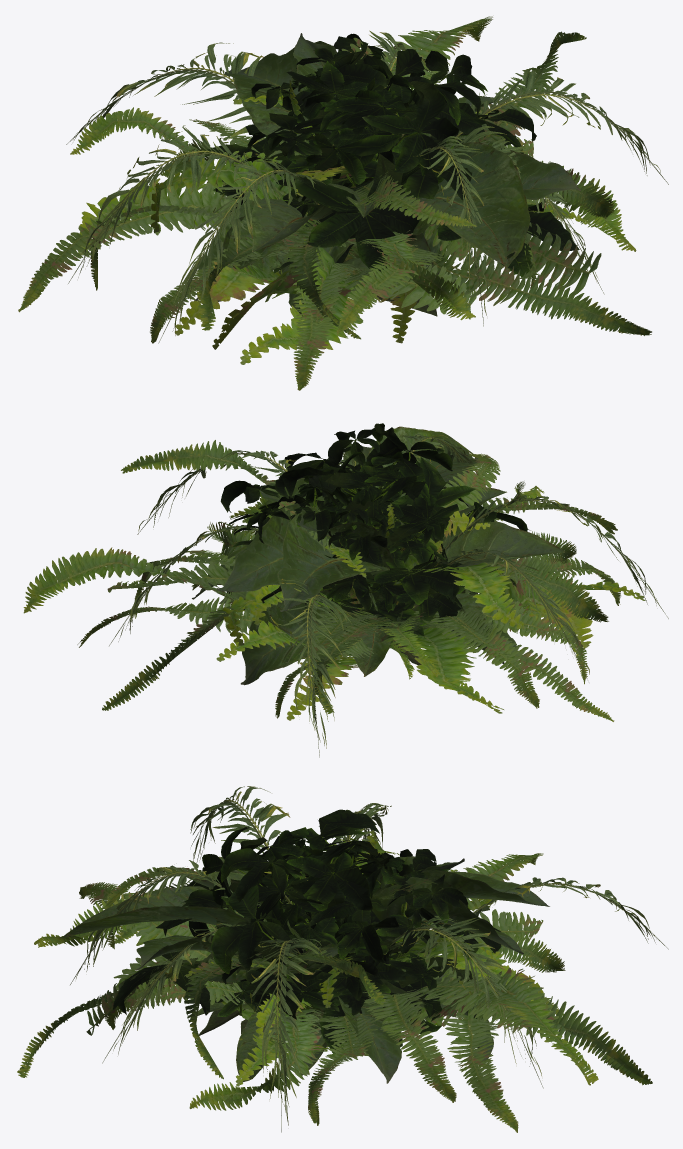
Rendered from foliage.glb.
3 views of the same model, one above another, from view 1: azimuth 30°, elevation 25°; view 2: azimuth 150°, elevation 25°; view 3: azimuth 270°, elevation 25° (orthographic). The views are drawn at different scales.
Visible parts, largest first — view 1: PalmA_professional_fronds, PalmALow_professional_fronds, LongPalmALow_folded_fronds, PalmB_professional_fronds, PalmBLow_professional_fronds, ShrubCLow_professional_leaves, LongPalmA_folded_fronds, CanopySpray_professional_leaf_spray, ShrubBLow_professional_leaves, BroadleafC_professional_leaves, PalmCLow_professional_fronds, PalmC_professional_fronds (+12 smaller); view 2: PalmBLow_professional_fronds, PalmB_professional_fronds, PalmALow_professional_fronds, PalmA_professional_fronds, ShrubCLow_professional_leaves, ShrubC_professional_leaves, LongPalmA_folded_fronds, LongPalmALow_folded_fronds, PalmCLow_professional_fronds, PalmC_professional_fronds, BroadleafC_professional_leaves, ShrubALow_professional_leaves (+11 smaller); view 3: PalmA_professional_fronds, ShrubCLow_professional_leaves, PalmALow_professional_fronds, PalmB_professional_fronds, LongPalmALow_folded_fronds, PalmBLow_professional_fronds, LongPalmA_folded_fronds, PalmCLow_professional_fronds, ShrubC_professional_leaves, ShrubALow_professional_leaves, BroadleafA_professional_leaves, ShrubB_professional_leaves (+11 smaller).
Boxes of the visible parts, bbox=[...] form: PalmA_professional_fronds: bbox=[18, 19, 651, 390]; PalmALow_professional_fronds: bbox=[18, 16, 651, 389]; LongPalmALow_folded_fronds: bbox=[74, 30, 650, 331]; PalmB_professional_fronds: bbox=[70, 82, 636, 361]; PalmBLow_professional_fronds: bbox=[70, 80, 628, 364]; ShrubCLow_professional_leaves: bbox=[202, 51, 515, 273]; LongPalmA_folded_fronds: bbox=[73, 31, 660, 335]; CanopySpray_professional_leaf_spray: bbox=[274, 153, 571, 277]; ShrubBLow_professional_leaves: bbox=[279, 65, 536, 189]; BroadleafC_professional_leaves: bbox=[224, 41, 580, 315]; PalmCLow_professional_fronds: bbox=[78, 31, 601, 332]; PalmC_professional_fronds: bbox=[78, 32, 601, 334]; PalmBLow_professional_fronds: bbox=[102, 453, 645, 717]; PalmB_professional_fronds: bbox=[102, 453, 643, 718]; PalmALow_professional_fronds: bbox=[24, 489, 620, 721]; PalmA_professional_fronds: bbox=[23, 481, 620, 720]; ShrubCLow_professional_leaves: bbox=[230, 454, 475, 624]; ShrubC_professional_leaves: bbox=[226, 456, 470, 643]; LongPalmA_folded_fronds: bbox=[118, 434, 658, 748]; LongPalmALow_folded_fronds: bbox=[125, 434, 656, 744]; PalmCLow_professional_fronds: bbox=[77, 440, 617, 709]; PalmC_professional_fronds: bbox=[79, 443, 614, 713]; BroadleafC_professional_leaves: bbox=[219, 443, 564, 611]; ShrubALow_professional_leaves: bbox=[220, 480, 447, 613]; PalmA_professional_fronds: bbox=[20, 871, 594, 1125]; ShrubCLow_professional_leaves: bbox=[221, 809, 501, 1017]; PalmALow_professional_fronds: bbox=[17, 873, 598, 1123]; PalmB_professional_fronds: bbox=[104, 831, 652, 1110]; LongPalmALow_folded_fronds: bbox=[84, 786, 655, 1101]; PalmBLow_professional_fronds: bbox=[104, 830, 652, 1110]; LongPalmA_folded_fronds: bbox=[76, 786, 654, 1125]; PalmCLow_professional_fronds: bbox=[79, 869, 558, 1131]; ShrubC_professional_leaves: bbox=[222, 812, 501, 1047]; ShrubALow_professional_leaves: bbox=[282, 849, 468, 964]; BroadleafA_professional_leaves: bbox=[61, 877, 523, 1083]; ShrubB_professional_leaves: bbox=[200, 827, 395, 973].
Size of the model in its own units: 3.12 by 1.09 by 3.04.
6 materials, 5 textured.
